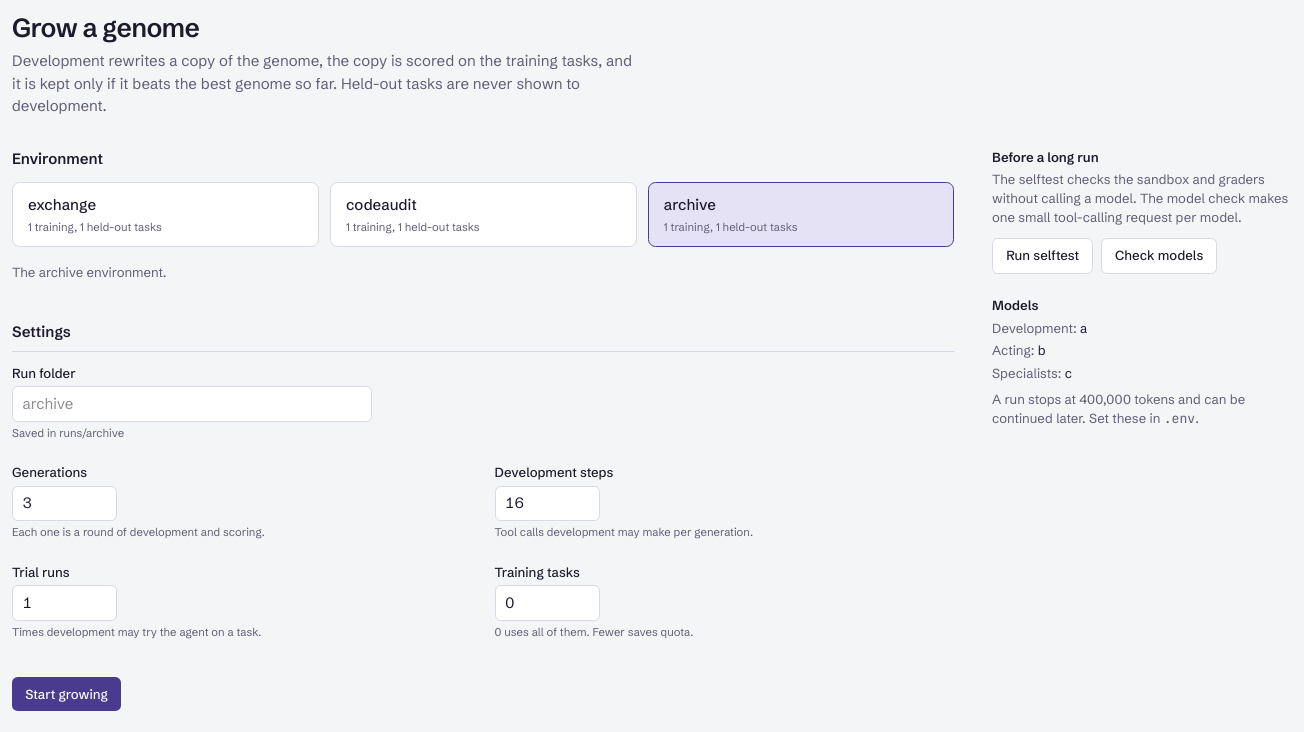
Test: GrowPage › warns before starting an existing run over
In the field labelled "Run folder": (192, 404) [12,386,372,422], type "exchange-1"
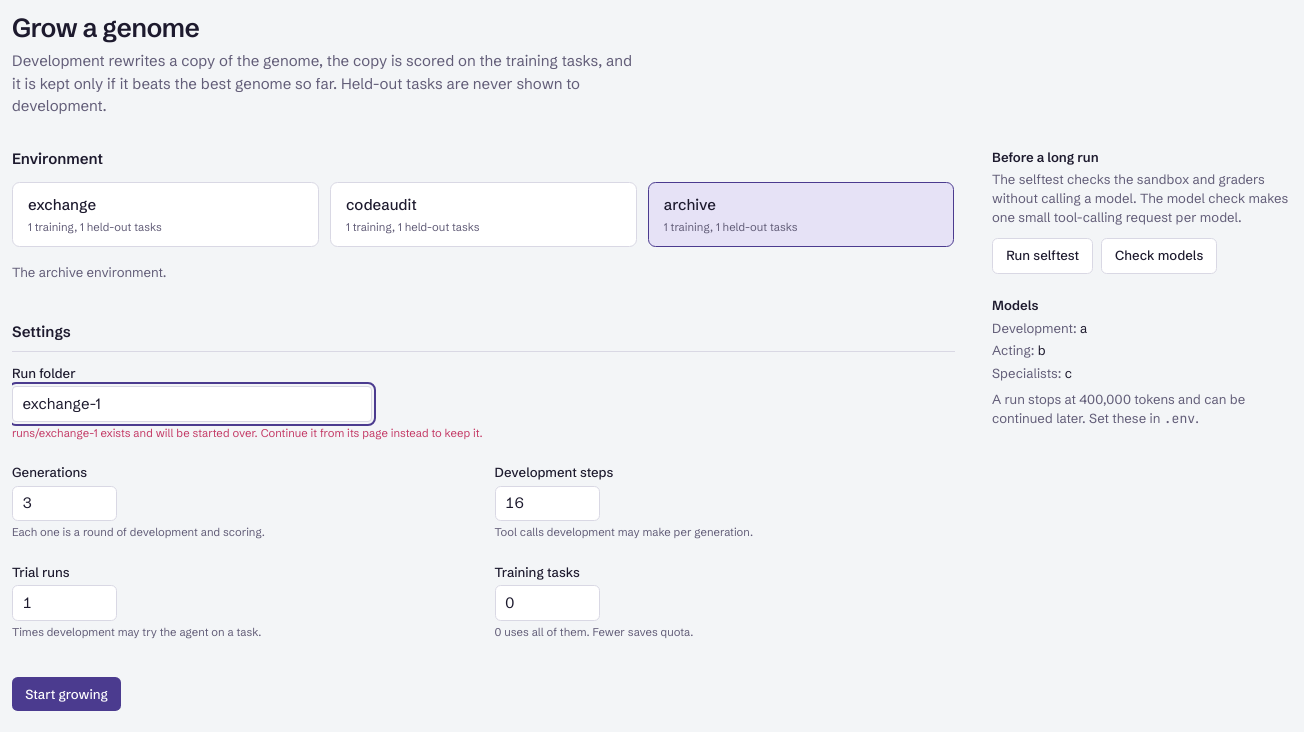
Now the text "exists and will be started over" is shown, box [98,426,482,440]
